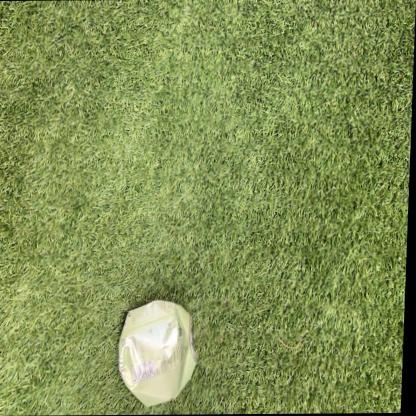trash: (119, 300, 195, 406)
